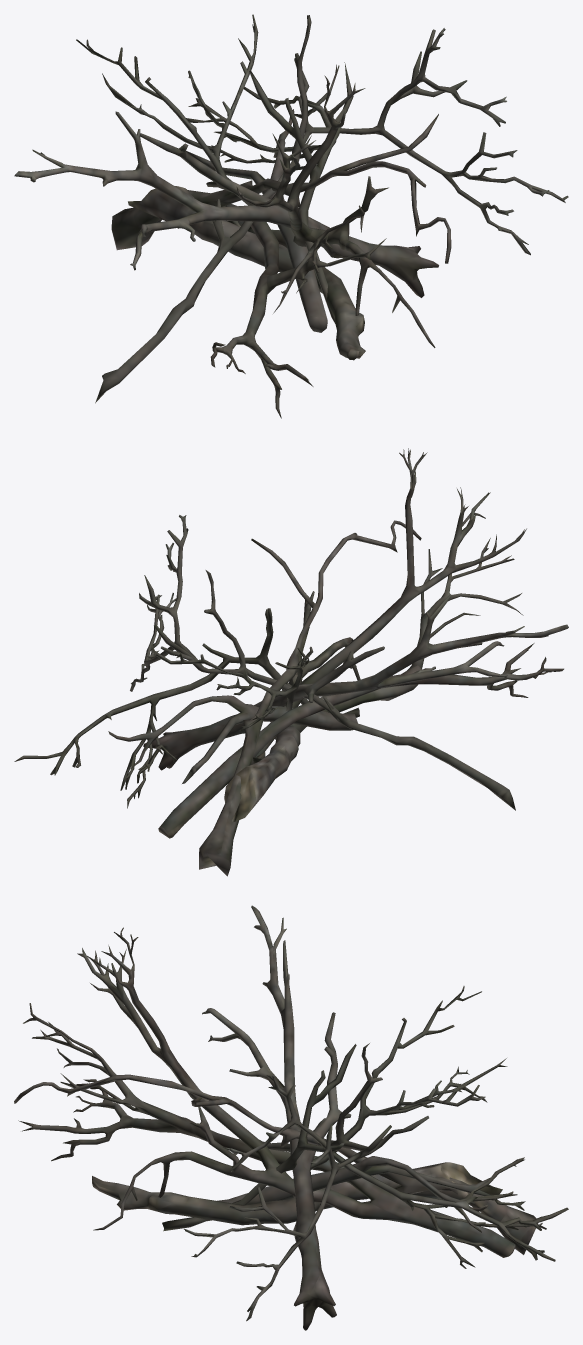
Rendered from GWood_Center.fbx.
3 views of the same model, one above another, from view 1: azimuth 30°, elevation 25°; view 2: azimuth 150°, elevation 25°; view 3: azimuth 270°, elevation 25° (orthographic). The views are drawn at different scales.
Parts seen in each view (by area): view 1: GWood_06, GWood_07, GWood_05, GWood_02, GWood_03, GWood_04, GWood_01; view 2: GWood_06, GWood_07, GWood_05, GWood_02, GWood_04, GWood_03, GWood_01; view 3: GWood_06, GWood_02, GWood_07, GWood_03, GWood_05, GWood_04, GWood_01.
Part boxes in pixels (x1=…): GWood_06: x1=210, y1=64, x2=435, y2=418; GWood_07: x1=14, y1=111, x2=438, y2=297; GWood_05: x1=95, y1=15, x2=568, y2=403; GWood_02: x1=76, y1=14, x2=341, y2=323; GWood_03: x1=128, y1=186, x2=365, y2=360; GWood_04: x1=111, y1=114, x2=451, y2=263; GWood_01: x1=186, y1=109, x2=327, y2=332; GWood_06: x1=158, y1=448, x2=563, y2=838; GWood_07: x1=143, y1=594, x2=568, y2=770; GWood_05: x1=130, y1=515, x2=515, y2=810; GWood_02: x1=14, y1=608, x2=359, y2=808; GWood_04: x1=199, y1=520, x2=421, y2=876; GWood_03: x1=224, y1=668, x2=430, y2=821; GWood_01: x1=108, y1=695, x2=357, y2=783; GWood_06: x1=18, y1=927, x2=515, y2=1257; GWood_02: x1=162, y1=986, x2=568, y2=1268; GWood_07: x1=202, y1=905, x2=351, y2=1330; GWood_03: x1=92, y1=1162, x2=502, y2=1225; GWood_05: x1=184, y1=1043, x2=428, y2=1321; GWood_04: x1=14, y1=1074, x2=538, y2=1254; GWood_01: x1=207, y1=1156, x2=491, y2=1232.
Size of what is drawn, in the model's own units: 249 by 158 by 250.
